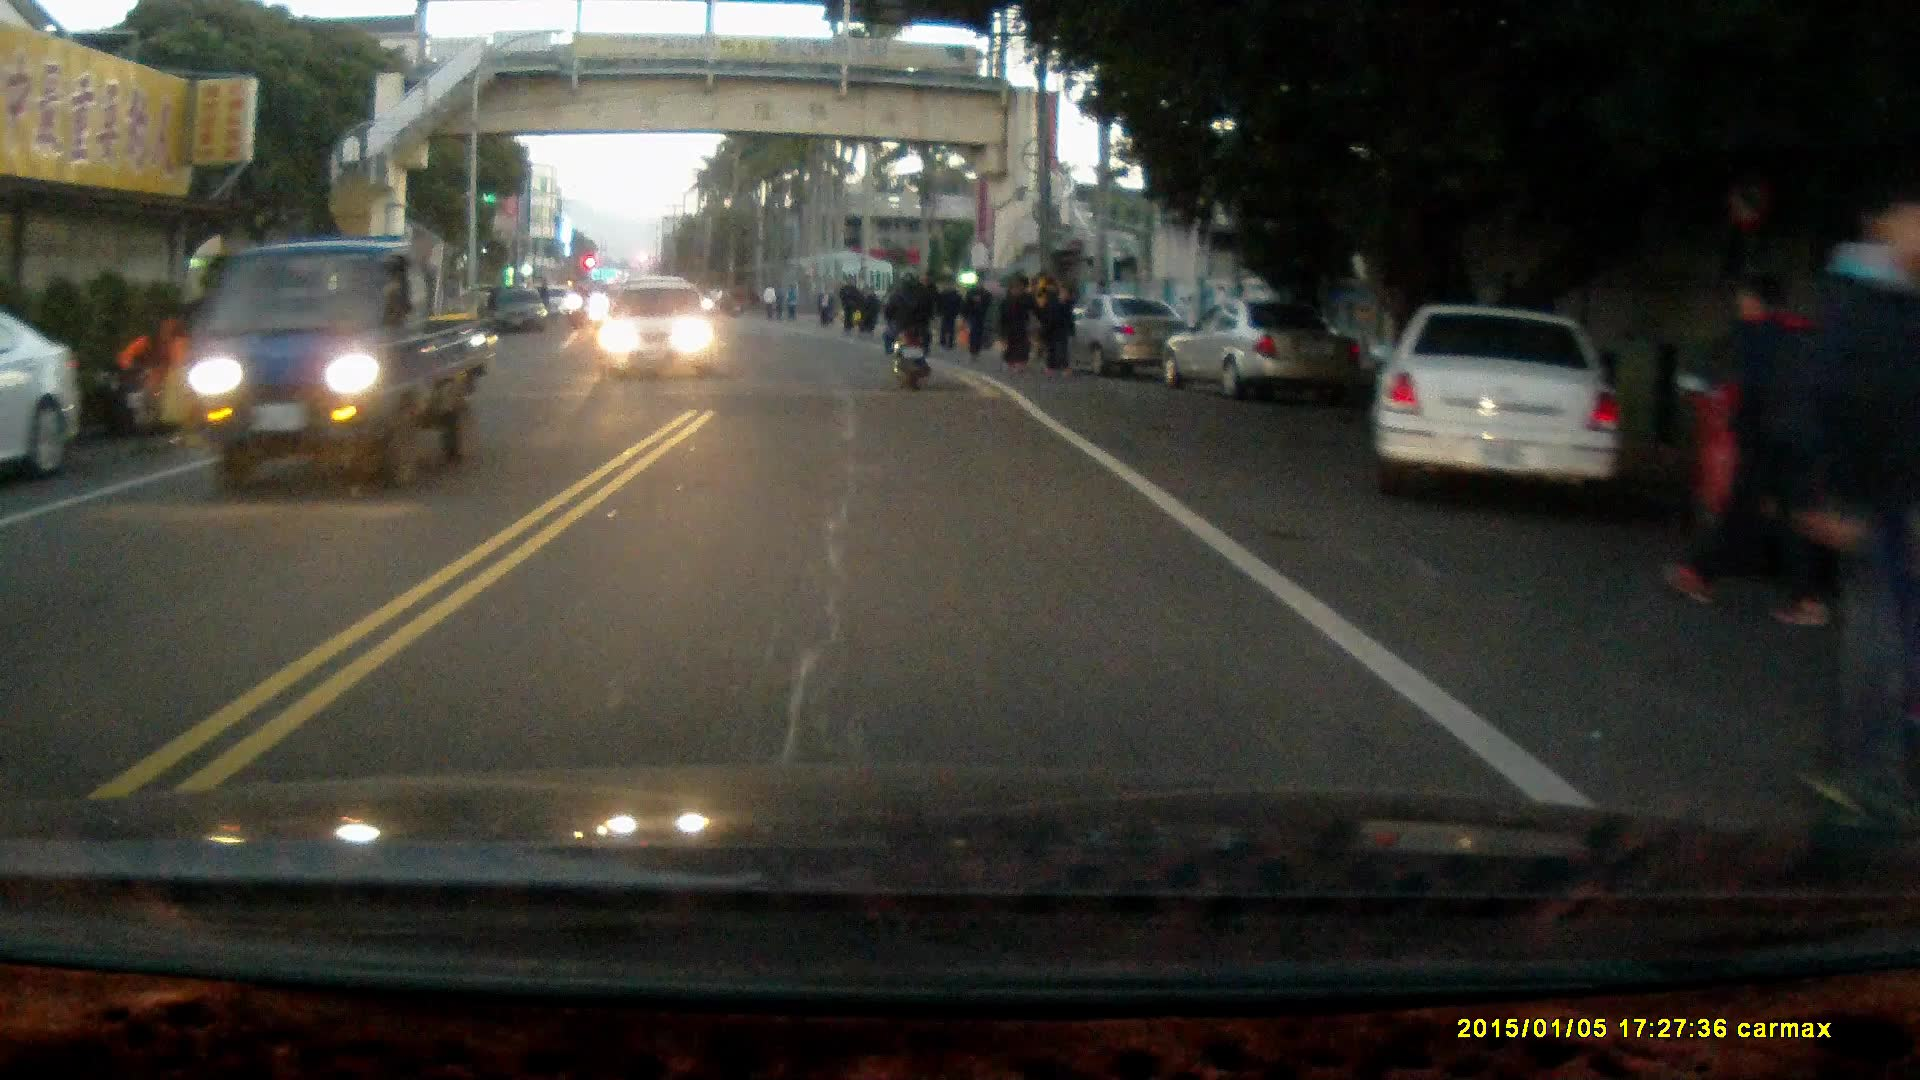pedestrian: (1797, 199, 1920, 823), (1653, 266, 1835, 633), (1006, 265, 1040, 364), (996, 273, 1027, 370), (960, 270, 989, 362), (1046, 282, 1076, 366), (934, 274, 963, 352)
rider: (876, 268, 935, 390)
vehicle: (186, 236, 496, 493), (1371, 297, 1638, 500), (1170, 297, 1362, 403), (599, 279, 718, 376), (1063, 290, 1190, 376)
